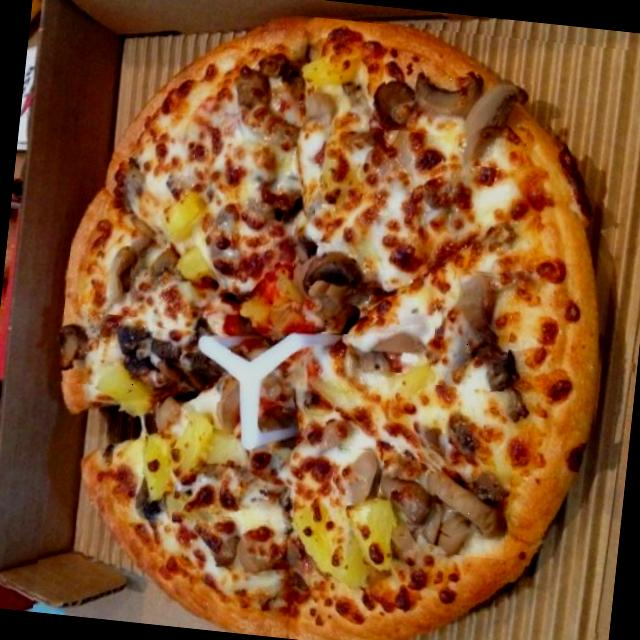mushrooms: (392, 454, 512, 559), (431, 268, 516, 391), (108, 322, 232, 402), (443, 76, 532, 170), (380, 65, 494, 138), (182, 514, 298, 578), (294, 243, 374, 335), (96, 222, 168, 318), (350, 314, 436, 374), (51, 312, 101, 383), (332, 447, 382, 511), (121, 472, 176, 524)
pizza: (60, 17, 600, 640)
